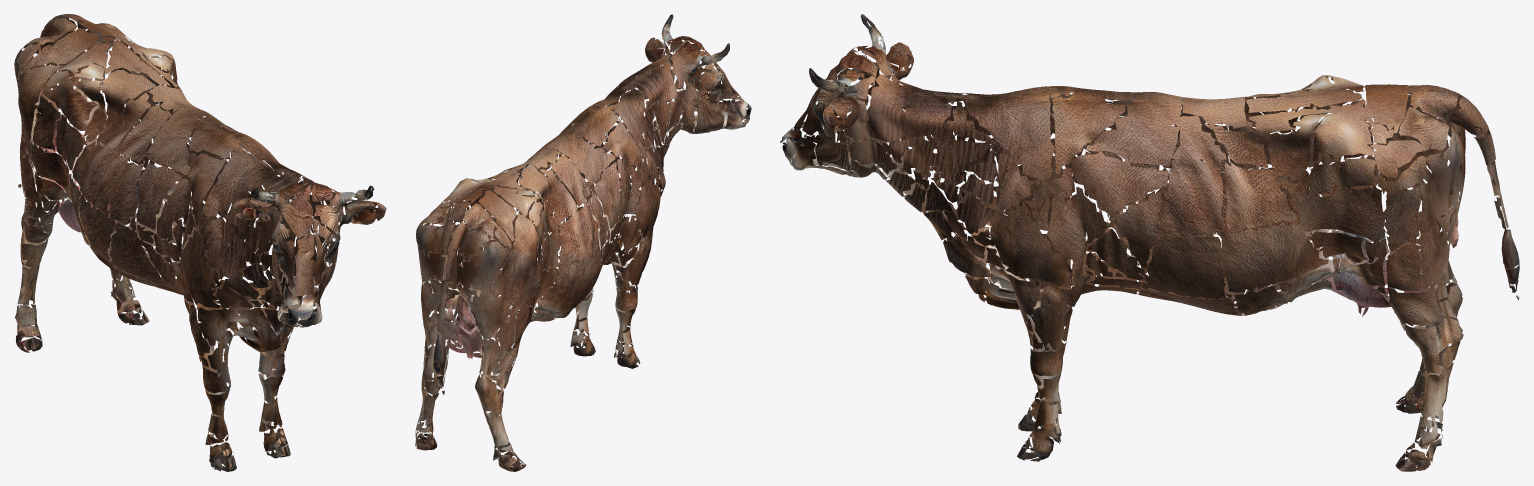
Rendered from cow.glb.
3 views of the same model, side by side, from view 1: azimuth 30°, elevation 25°; view 2: azimuth 150°, elevation 25°; view 3: azimuth 270°, elevation 25° (orthographic). The views are drawn at different scales.
Size of the model in its own units: 0.5613 by 1.28 by 2.2.
1 material, 1 textured.
